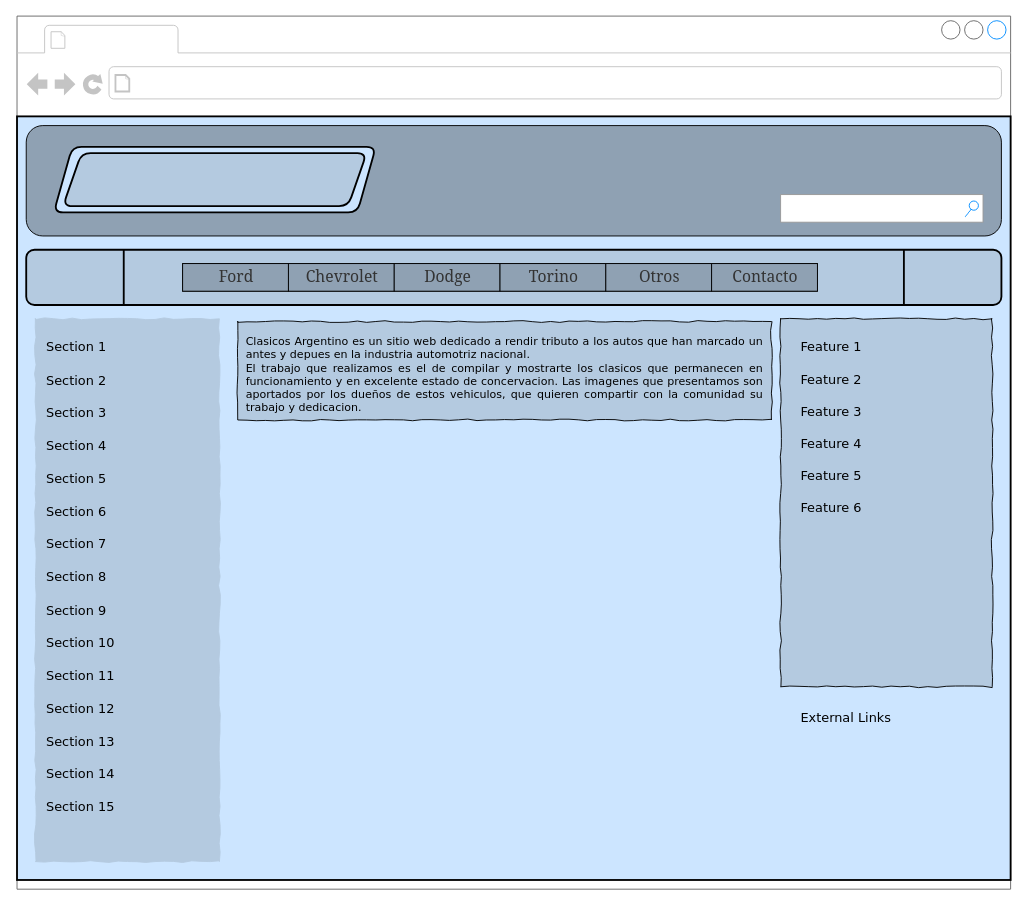
This 1027x905 diagram has some shape labels left out. The centre of each missing label's shape, as x and y in pixels:
Clasicos Argentinos: the point at 214,179
https://www.draw.io: the point at 251,82
Page 1: the point at 122,38
Search: the point at 881,208
